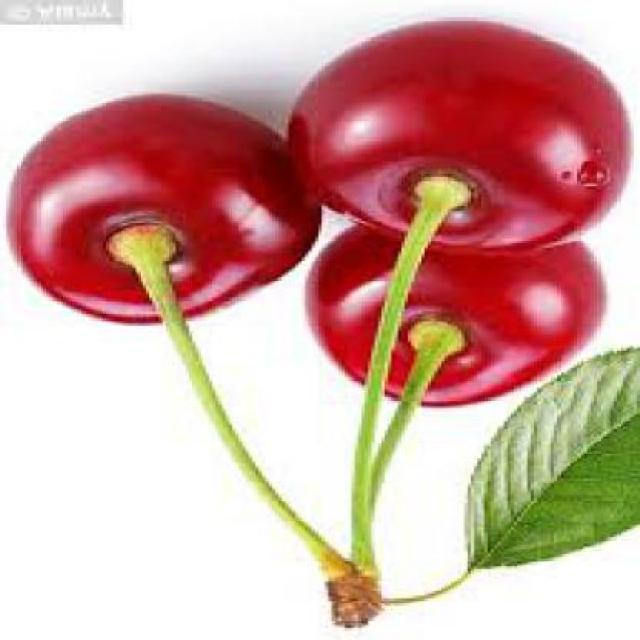BIODEGRADABLE: (282, 22, 627, 258), (3, 98, 322, 328), (305, 231, 600, 409), (461, 351, 636, 574)
